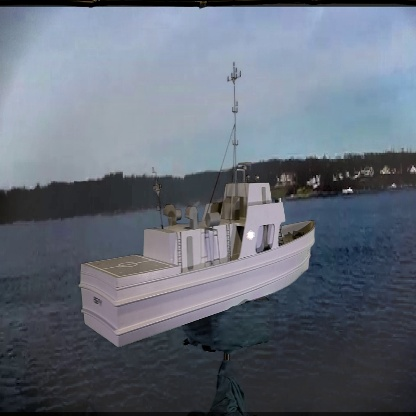YP689: (79, 61, 316, 349)
